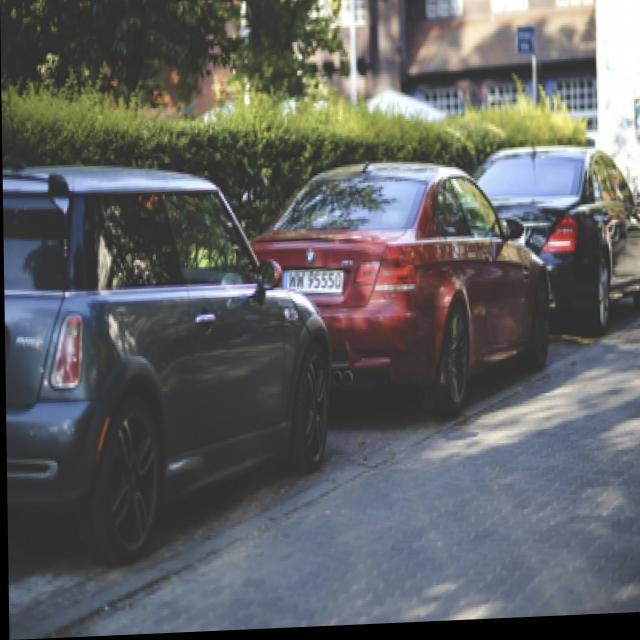licence: (281, 259, 344, 302)
